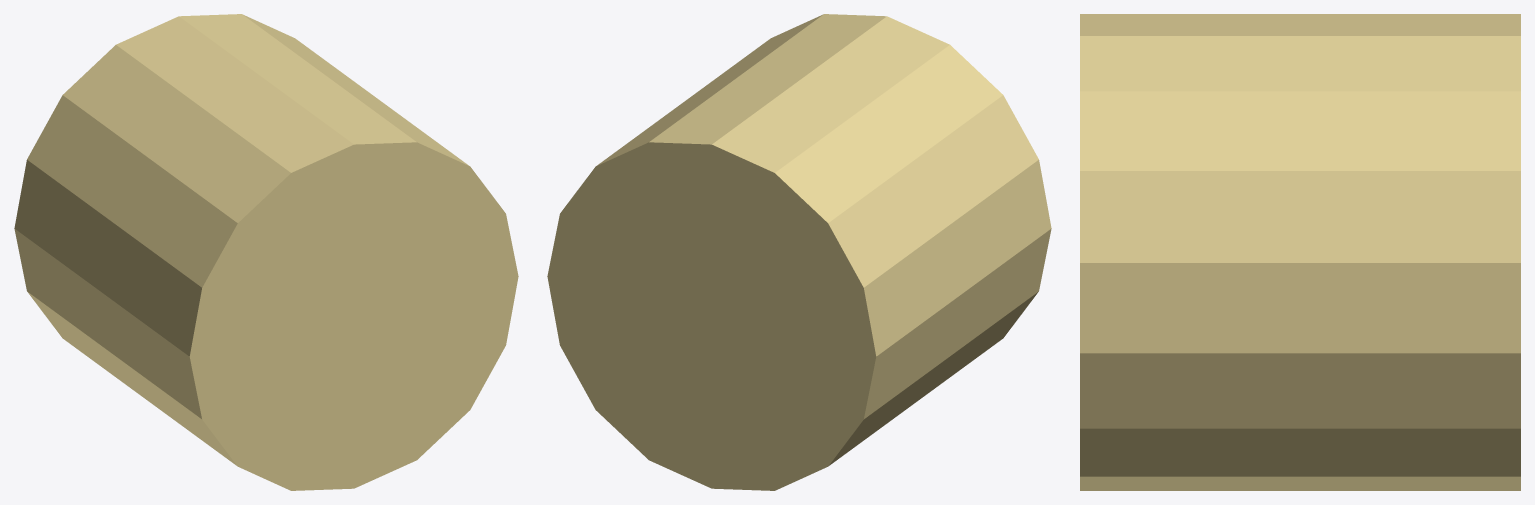
File: HayBale.fbx
3 views of the same model, side by side, from view 1: azimuth 30°, elevation 25°; view 2: azimuth 150°, elevation 25°; view 3: azimuth 270°, elevation 25° (orthographic). The views are drawn at different scales.
Visible parts, largest first — view 1: HayBale; view 2: HayBale; view 3: HayBale.
Boxes of the visible parts, x1=… form: HayBale: x1=14, y1=14, x2=518, y2=490; HayBale: x1=547, y1=14, x2=1051, y2=490; HayBale: x1=1080, y1=14, x2=1520, y2=490.
Bounding box in the file's own units: 1.3 × 1.2 × 1.3.
